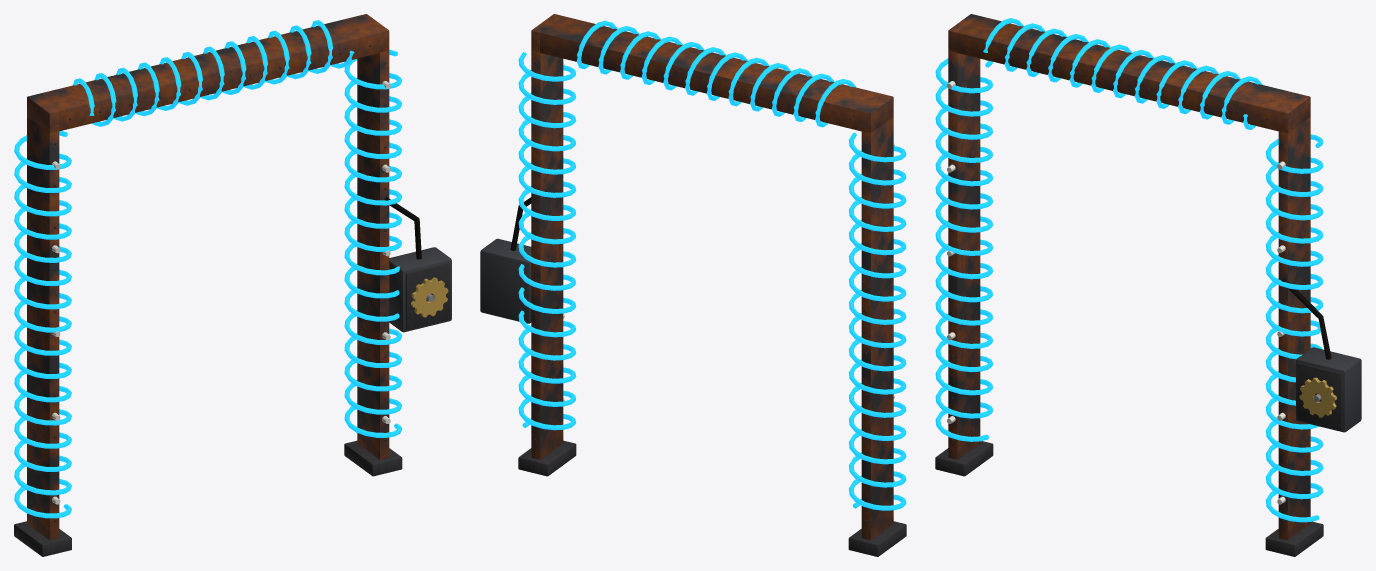
File: coil_door_frame.glb
3 views of the same model, side by side, from view 1: azimuth 30°, elevation 25°; view 2: azimuth 150°, elevation 25°; view 3: azimuth 330°, elevation 25° (orthographic).
Visible parts, largest first — view 1: coil_door_frame_static, coilGlow, gear; view 2: coil_door_frame_static, coilGlow; view 3: coil_door_frame_static, coilGlow, gear.
Part boxes in pixels (left/top/right/bottom): coil_door_frame_static: left=14, top=14, right=451, bottom=556; coilGlow: left=14, top=20, right=401, bottom=518; gear: left=411, top=277, right=448, bottom=317; coil_door_frame_static: left=480, top=14, right=906, bottom=556; coilGlow: left=518, top=20, right=906, bottom=510; coil_door_frame_static: left=935, top=14, right=1361, bottom=556; coilGlow: left=935, top=18, right=1323, bottom=522; gear: left=1299, top=377, right=1336, bottom=417.
Size of the model in its own units: 4.2 by 4.32 by 0.582.
8 materials, 3 textured.
